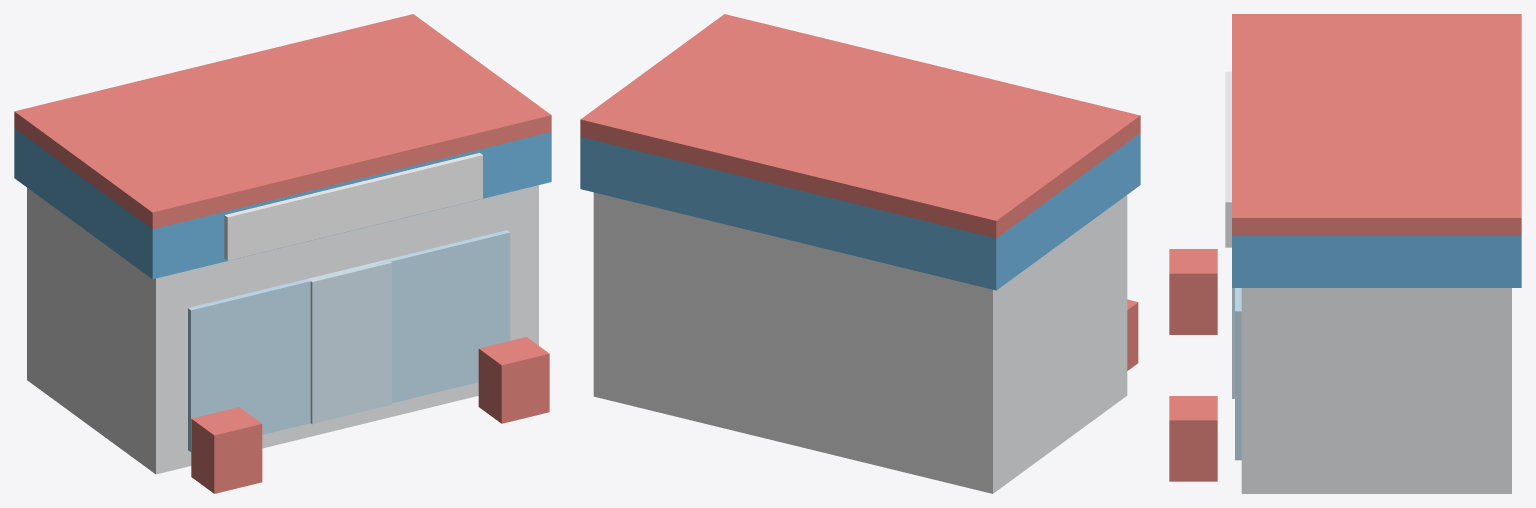
File: minimarket.glb
3 renders of one model, left to right at view 1: azimuth 30°, elevation 25°; view 2: azimuth 150°, elevation 25°; view 3: azimuth 270°, elevation 25°, orthographic. The views are drawn at different scales.
Visible parts, largest first — view 1: minimarket; view 2: minimarket; view 3: minimarket.
Part boxes in pixels (x1,y1,x2,y2): minimarket: [14, 14, 551, 493]; minimarket: [580, 14, 1140, 493]; minimarket: [1169, 14, 1521, 493].
Size of the model in its own units: 2.5 by 1.6 by 1.82.
